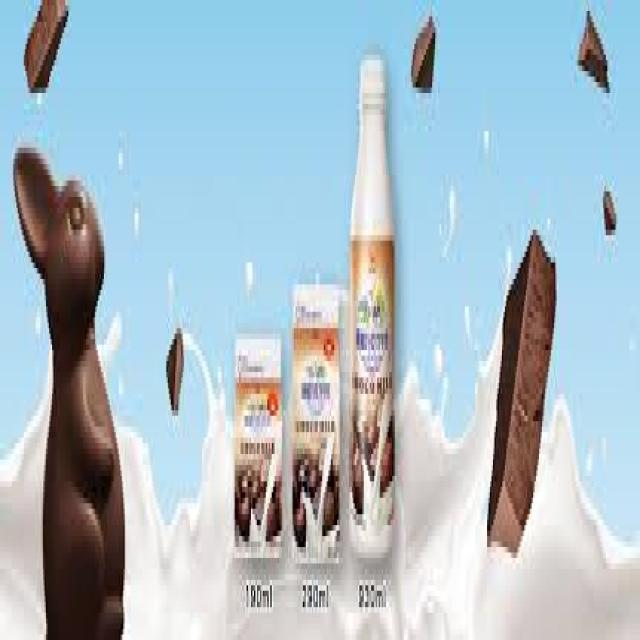RuiSui_ChocoMilk: (291, 285, 341, 564), (233, 329, 284, 570)
